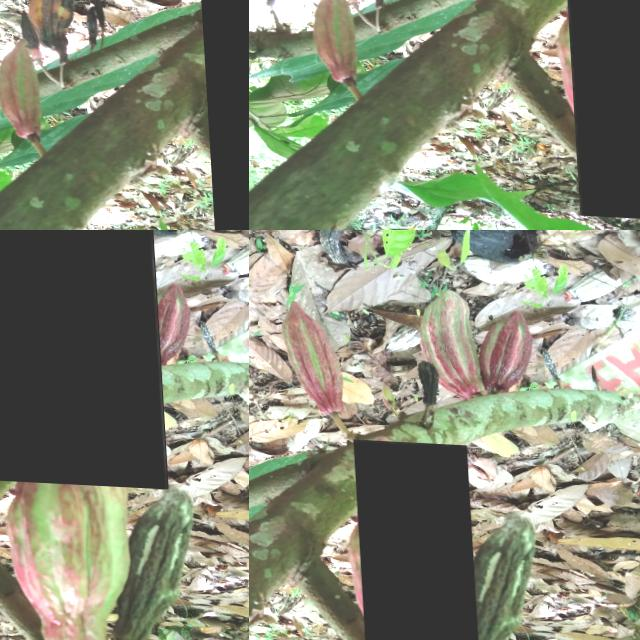Fitoftora: (562, 0, 640, 218), (196, 0, 249, 230)
Monilia: (441, 514, 541, 640), (418, 356, 432, 399)
Sana: (0, 230, 163, 484), (350, 435, 475, 640), (271, 301, 344, 408), (424, 287, 485, 386), (476, 310, 532, 387)
